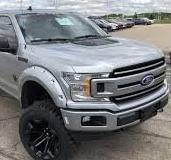Trucks: (1, 15, 168, 159)
